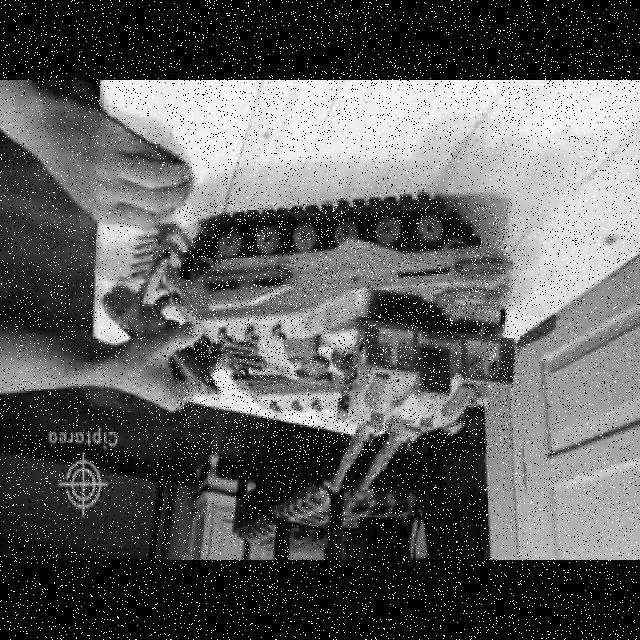MIL_MBT: (179, 203, 519, 454)
